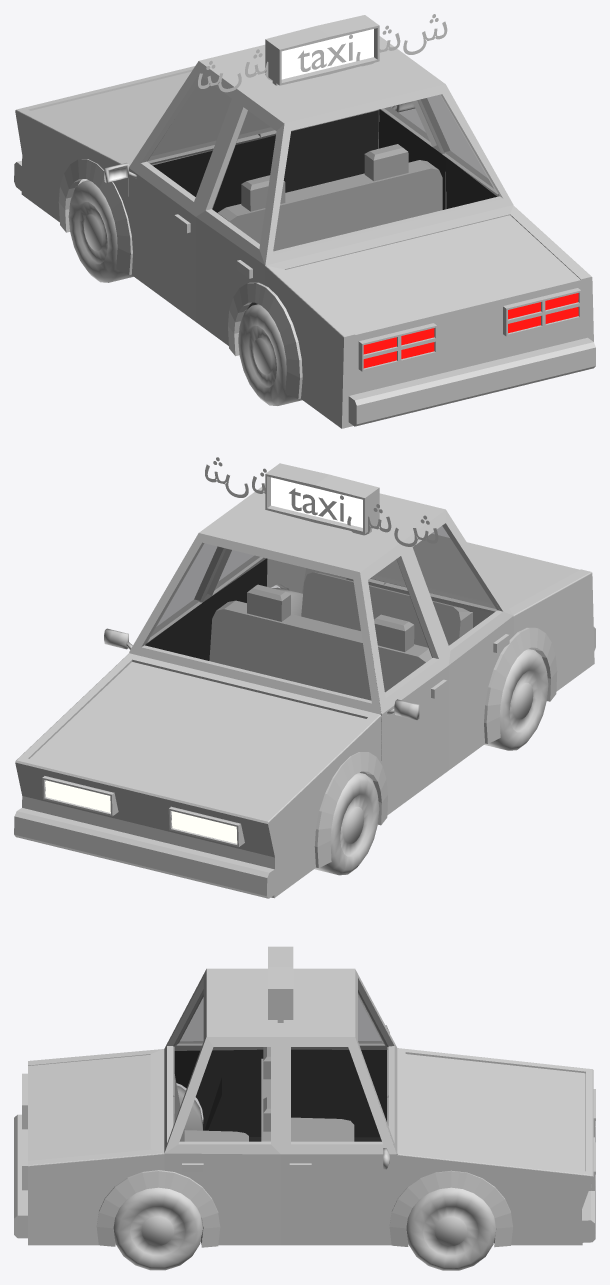
The model's file is taxi.glb.
3 renders of one model, top to bottom at view 1: azimuth 30°, elevation 25°; view 2: azimuth 150°, elevation 25°; view 3: azimuth 270°, elevation 25°, orthographic. The views are drawn at different scales.
Visible parts, largest first — view 1: bodyCar, bodyCar.001, Trank, CarHood, Flaps, WheelL-F, WheelsBack, text-Tax, Text-Taxi; view 2: bodyCar, bodyCar.001, CarHood, Trank, Flaps, WheelsBack, WheelL-F, Text-Taxi; view 3: bodyCar, bodyCar.001, CarHood, Trank, Flaps, WheelsBack, WheelR-F.
Boxes of the visible parts, <box> form: bodyCar: <box>14,15,595,428</box>; bodyCar.001: <box>147,77,498,250</box>; Trank: <box>285,215,581,376</box>; CarHood: <box>31,71,270,162</box>; Flaps: <box>58,159,302,398</box>; WheelL-F: <box>68,180,133,282</box>; WheelsBack: <box>238,304,302,405</box>; text-Tax: <box>297,14,447,71</box>; Text-Taxi: <box>198,49,272,92</box>; bodyCar: <box>14,463,595,898</box>; bodyCar.001: <box>145,526,496,699</box>; CarHood: <box>30,662,365,815</box>; Trank: <box>375,533,579,607</box>; Flaps: <box>276,584,557,867</box>; WheelsBack: <box>272,587,548,750</box>; WheelL-F: <box>314,772,379,875</box>; Text-Taxi: <box>289,488,438,546</box>; bodyCar: <box>14,946,595,1245</box>; bodyCar.001: <box>173,990,388,1141</box>; CarHood: <box>405,1054,585,1171</box>; Trank: <box>22,1054,150,1190</box>; Flaps: <box>96,1083,513,1247</box>; WheelsBack: <box>113,1085,202,1270</box>; WheelR-F: <box>406,1187,495,1270</box>.
Size of the model in its own units: 4.94 by 4.36 by 9.21.
